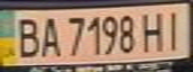1: (81, 12, 103, 56)
7: (63, 12, 84, 57)
8: (118, 10, 139, 55)
9: (100, 11, 121, 55)
A: (36, 14, 63, 58)
B: (9, 13, 42, 60)
H: (139, 8, 169, 53)
I: (160, 7, 190, 52)
